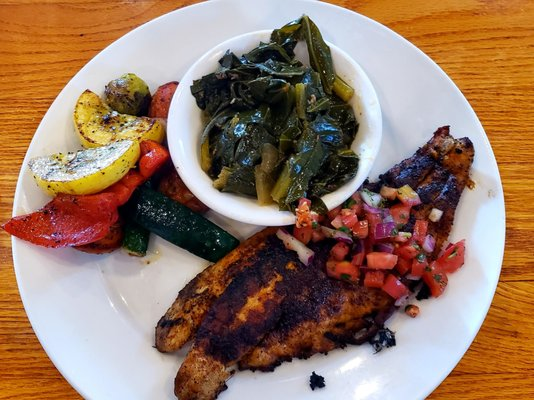sushi: (165, 15, 384, 241)
